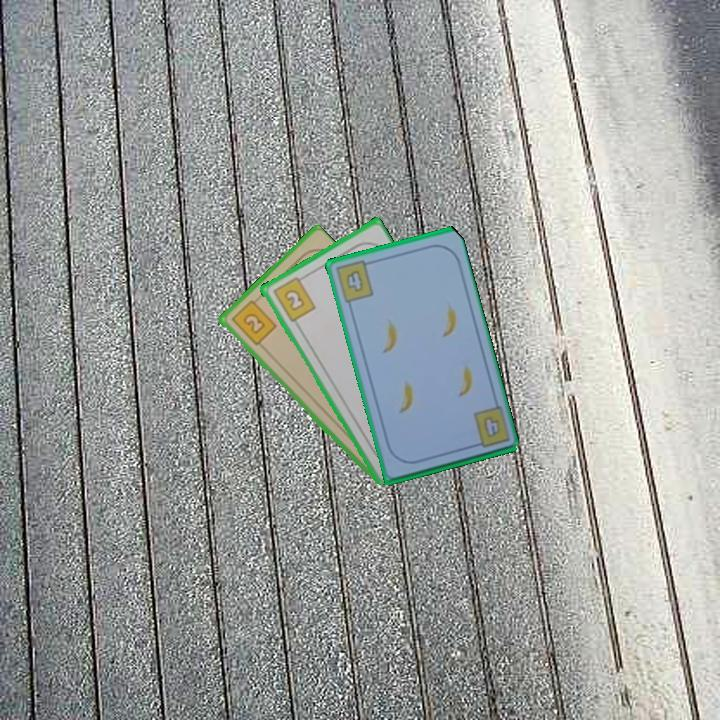2b: (227, 294, 279, 348), (269, 272, 318, 324)
4b: (332, 257, 376, 305), (479, 412, 503, 441)
